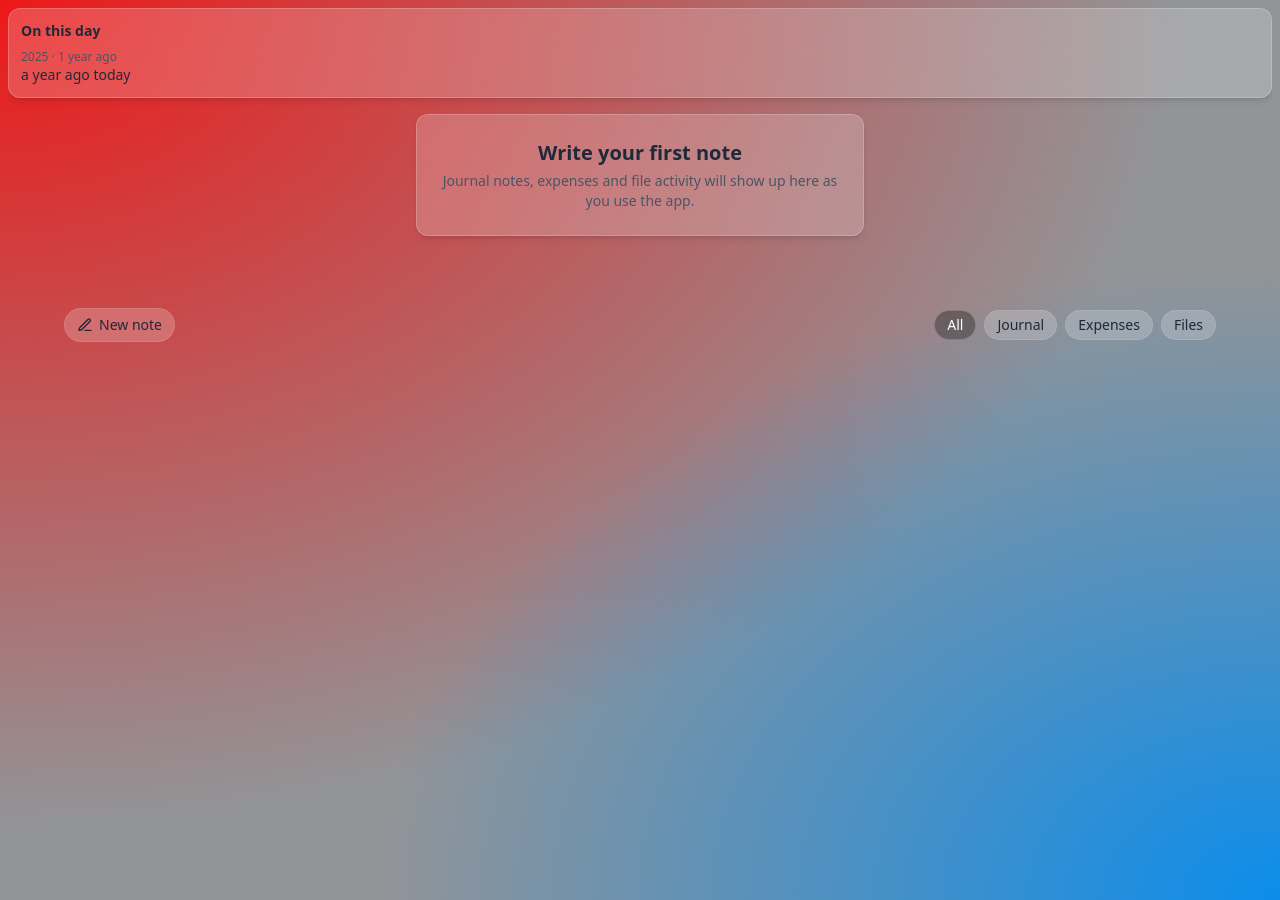
Test: On this day › is hidden under the Expenses and Files filters
Expected: the element "On this day" is shown, [8, 8, 1272, 98]
Step 1. Click the button "Expenses" → (1109, 325), box [1065, 310, 1153, 340]
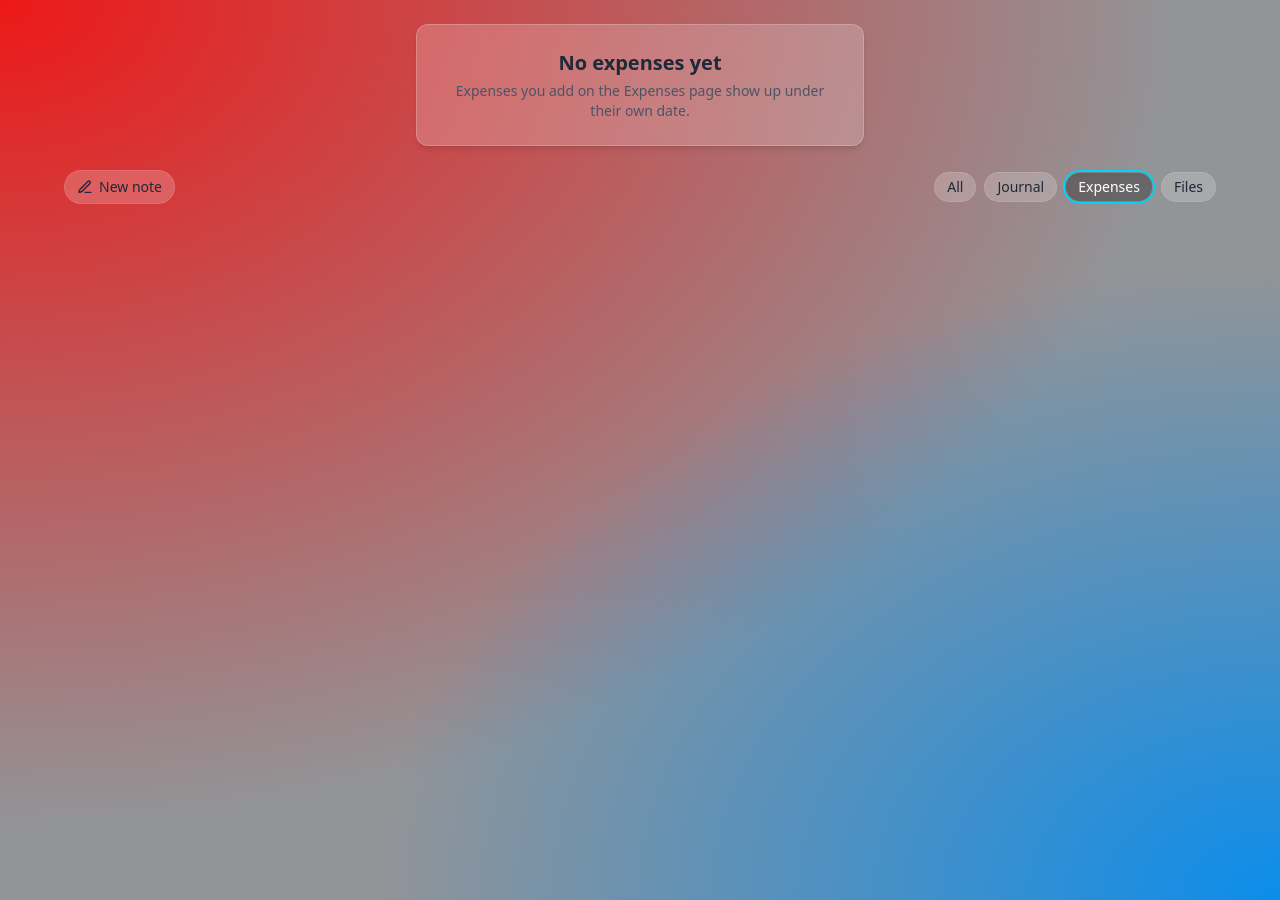
Result: the heading "On this day" is gone
